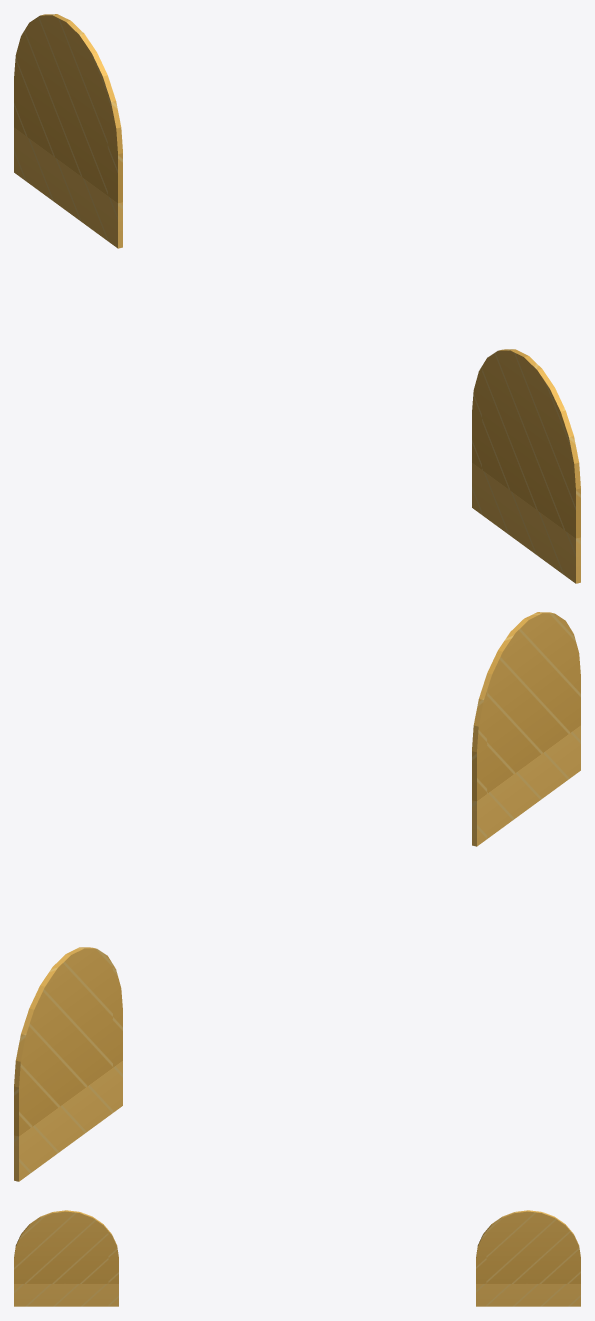
The model's file is SM_HH_V2_Glass_Front.fbx.
3 renders of one model, top to bottom at view 1: azimuth 30°, elevation 25°; view 2: azimuth 150°, elevation 25°; view 3: azimuth 270°, elevation 25°, orthographic. The views are drawn at different scales.
Parts seen in each view (by area): view 1: HH_V2_Glass_Front; view 2: HH_V2_Glass_Front; view 3: HH_V2_Glass_Front.
Part boxes in pixels (x1,y1,x2,y2): HH_V2_Glass_Front: (14, 14, 580, 583); HH_V2_Glass_Front: (14, 612, 580, 1181); HH_V2_Glass_Front: (14, 1210, 580, 1306).
Size of the model in its own units: 6.75 by 0.035 by 1.25.
